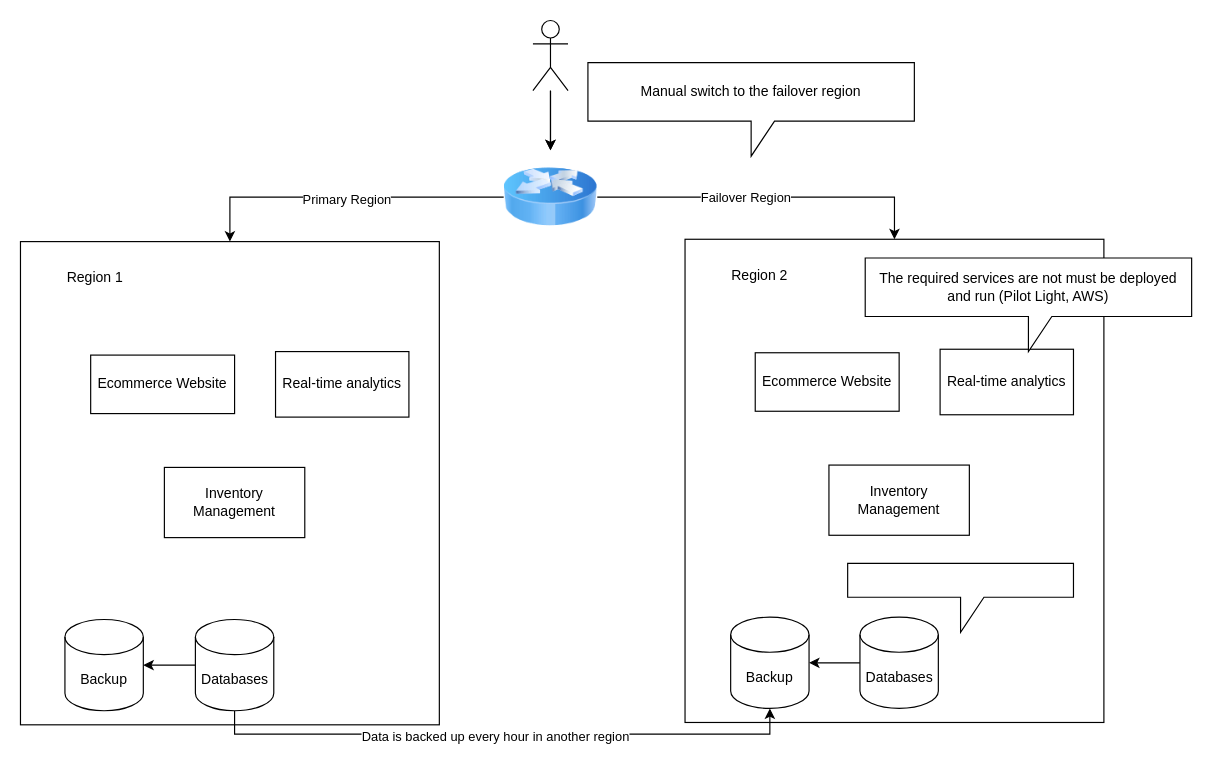
Image size: 1212x764. Some labels were removed from this diagram. Each missing label, with the centre of its shape:
"The database is running with data" goes at point (959, 597).
"User" goes at point (550, 55).
